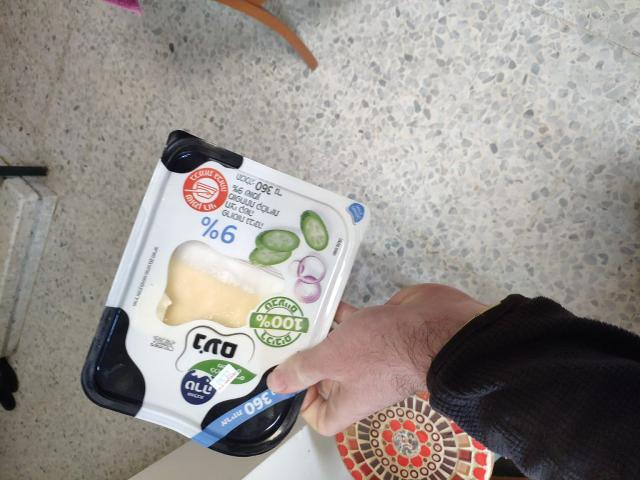cheese: (134, 161, 339, 419)
